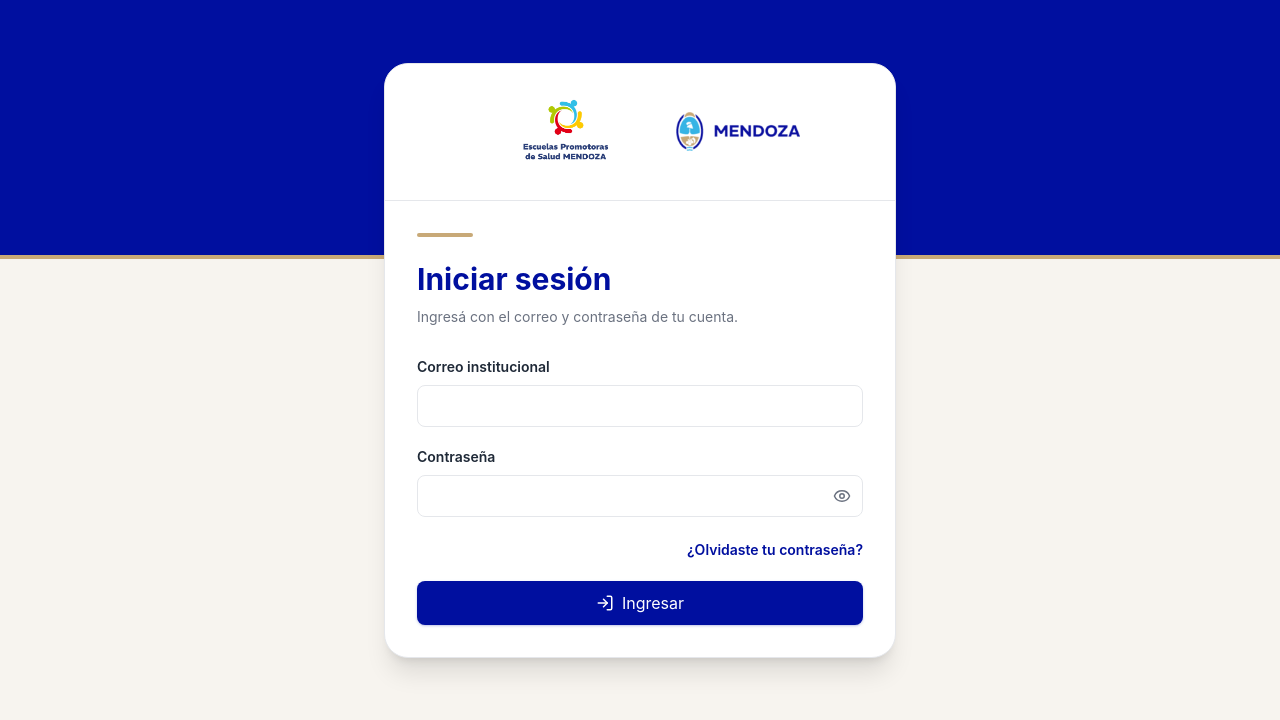
Test: LoginPage return navigation › muestra el error de credenciales dentro del formulario
The image size is (1280, 720).
Type "admin@example.com" into the field labelled "Correo institucional" at (640,406), box [417,384,863,426]
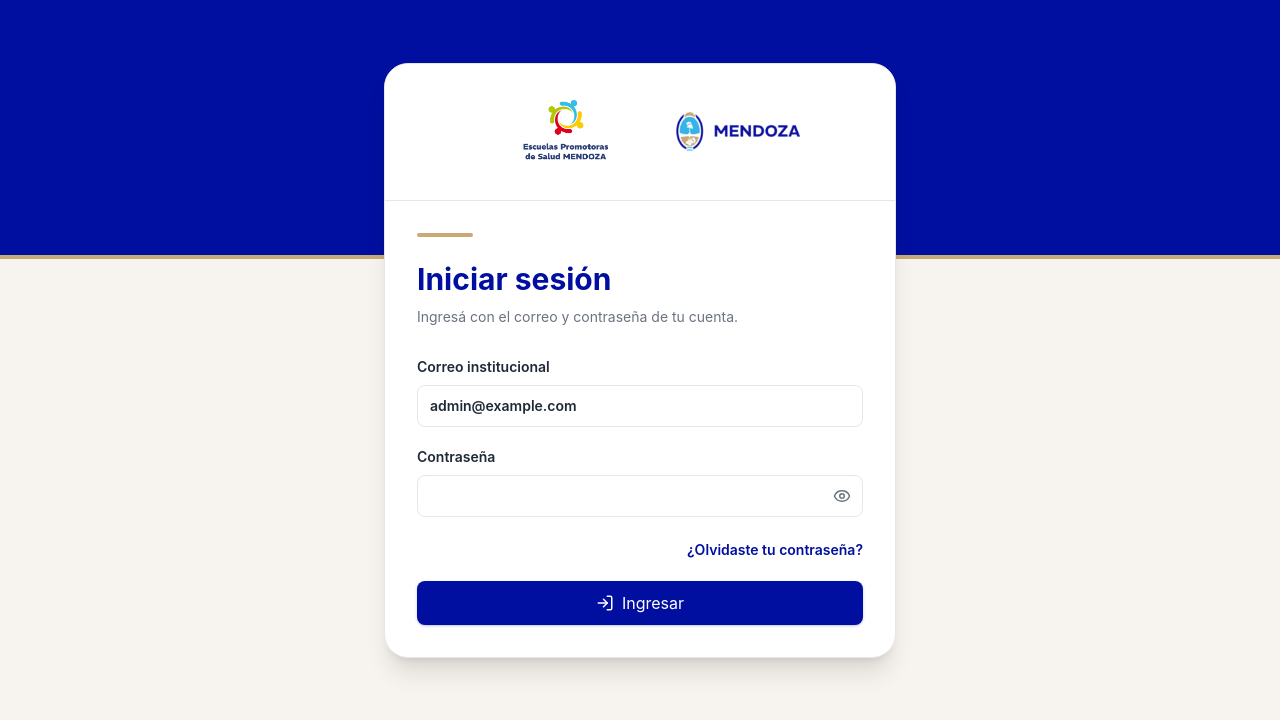
Type "una-clave" into the password field labelled "Contraseña" at (640,496), box [417,474,863,516]
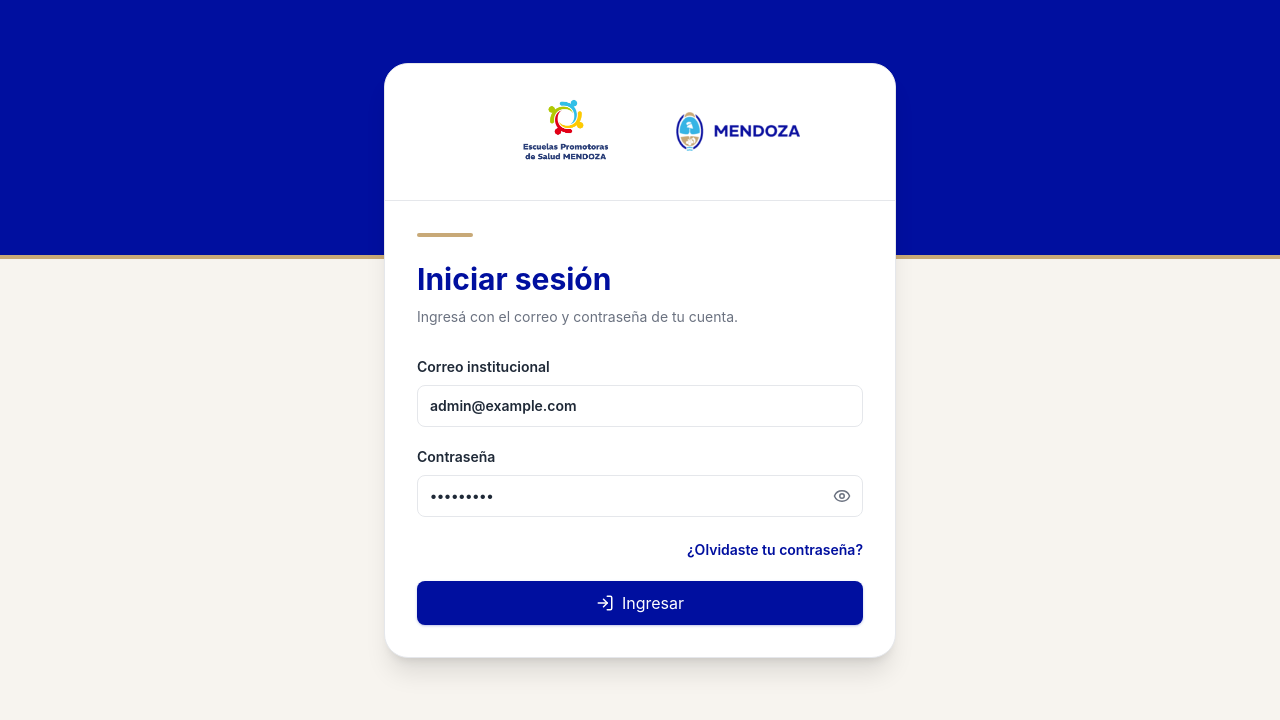
Click the button "Ingresar" at (640,602), box [417,580,863,624]
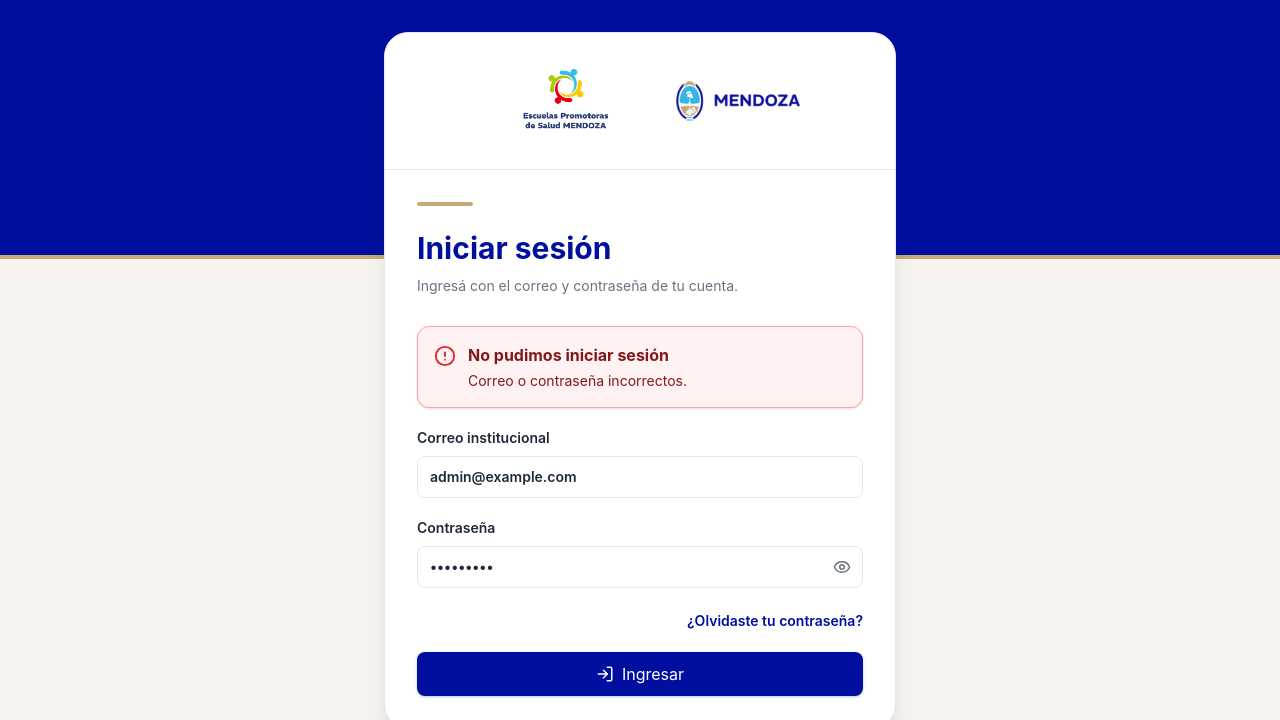
Now the message shows "No pudimos iniciar sesión", box [468,345,669,365]
Now the message shows "Correo o contraseña incorrectos.", box [468,372,687,389]
